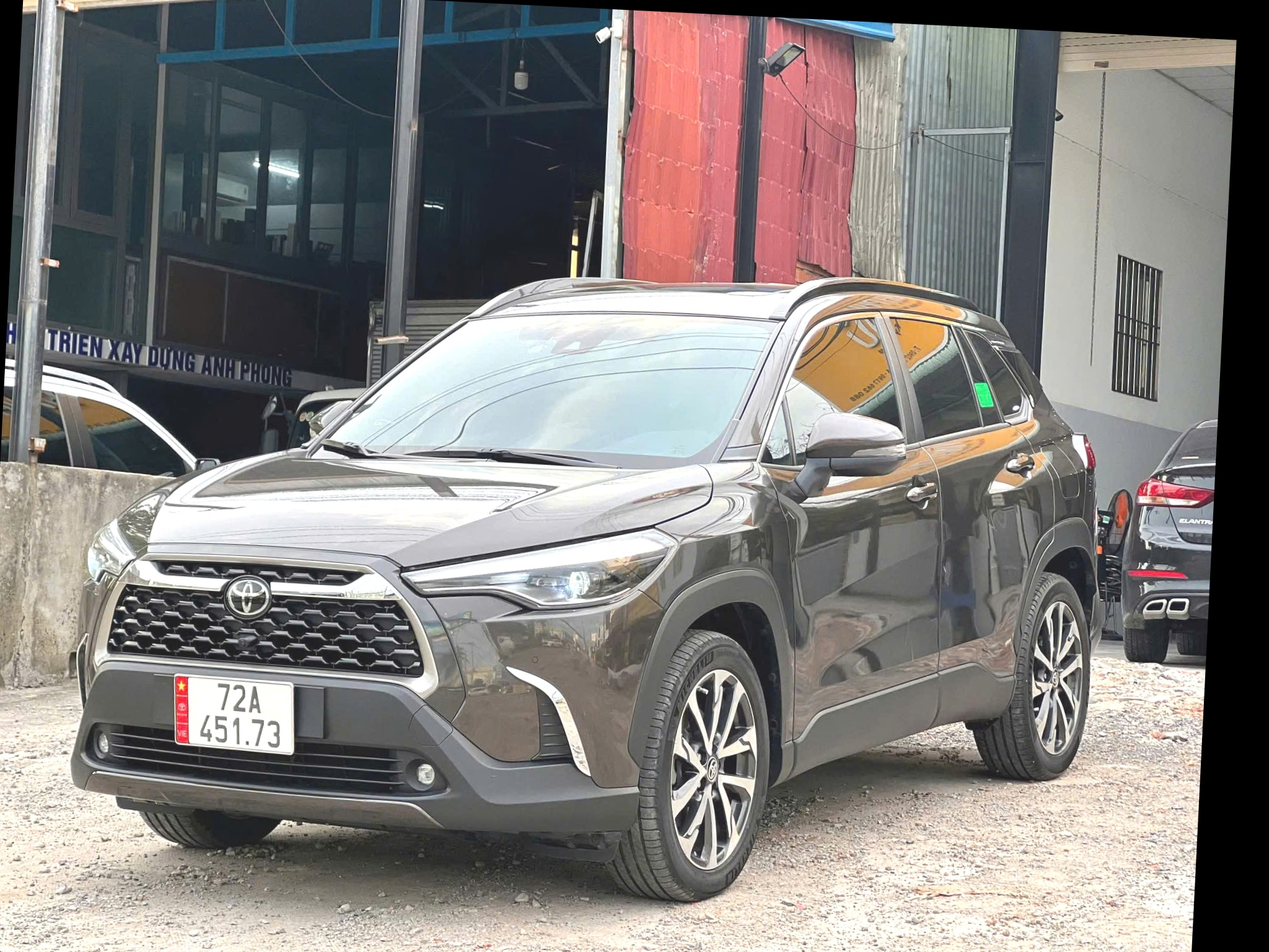Bien-so: (189, 642, 329, 733)
